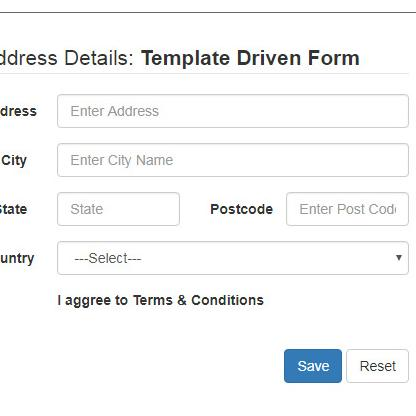button: (344, 348, 411, 385), (283, 347, 343, 384)
field: (55, 92, 411, 129), (56, 142, 412, 179), (55, 191, 181, 228), (284, 192, 409, 227)
